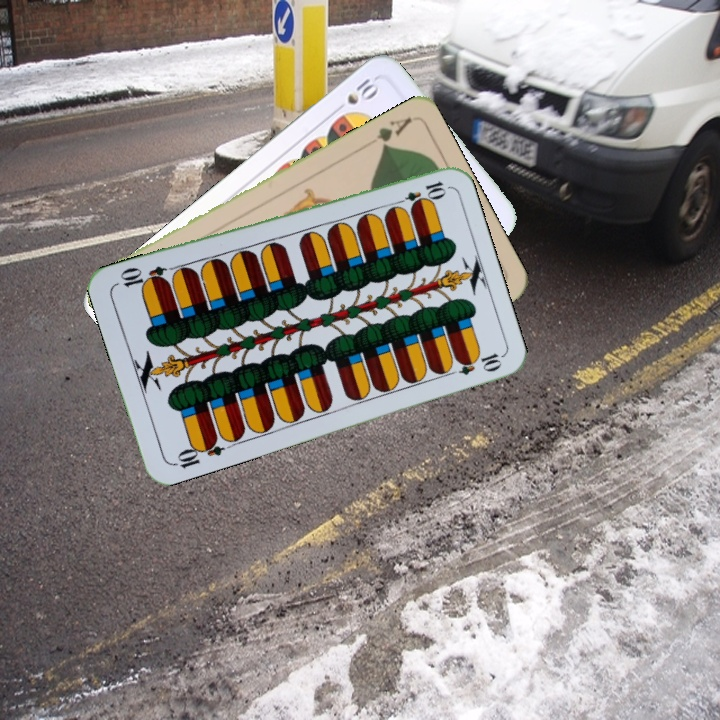E10: (169, 433, 226, 471), (390, 177, 448, 210)
GA: (371, 112, 415, 152)
S10: (342, 73, 382, 108)
